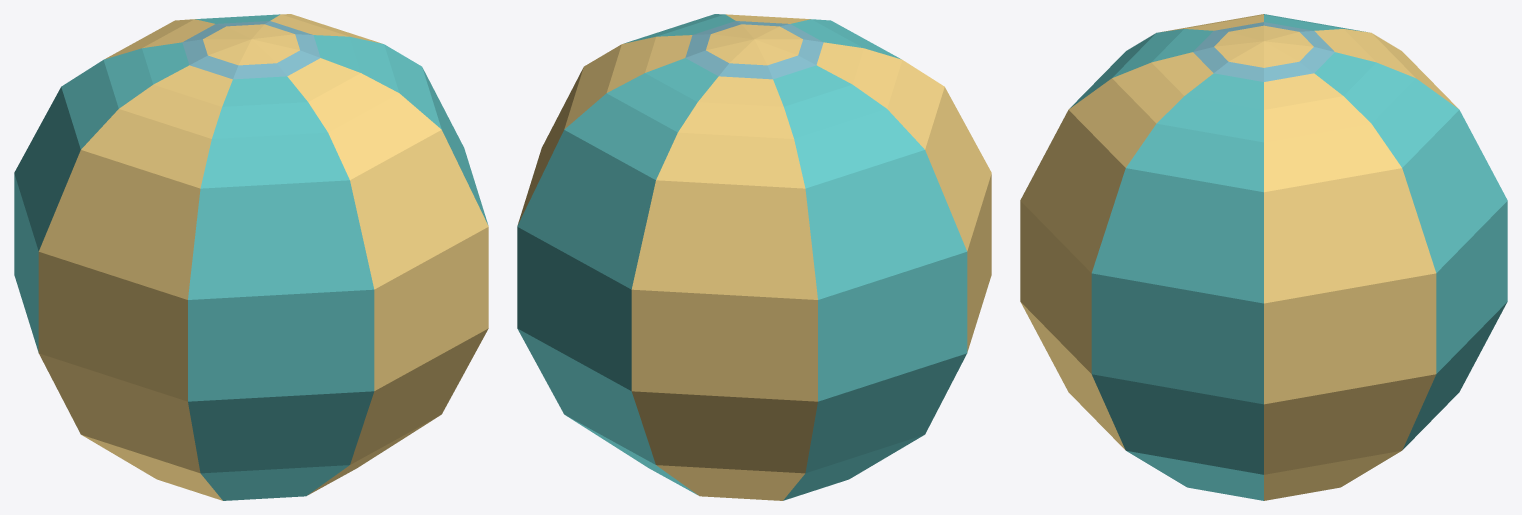
File: BallToy.fbx
3 views of the same model, side by side, from view 1: azimuth 30°, elevation 25°; view 2: azimuth 150°, elevation 25°; view 3: azimuth 270°, elevation 25° (orthographic).
Visible parts, largest first — view 1: Sphere; view 2: Sphere; view 3: Sphere.
Part boxes in pixels (bbox=[...]): Sphere: bbox=[14, 14, 488, 500]; Sphere: bbox=[517, 14, 991, 500]; Sphere: bbox=[1020, 14, 1507, 500].
Size of the model in its own units: 195 by 193 by 195.
